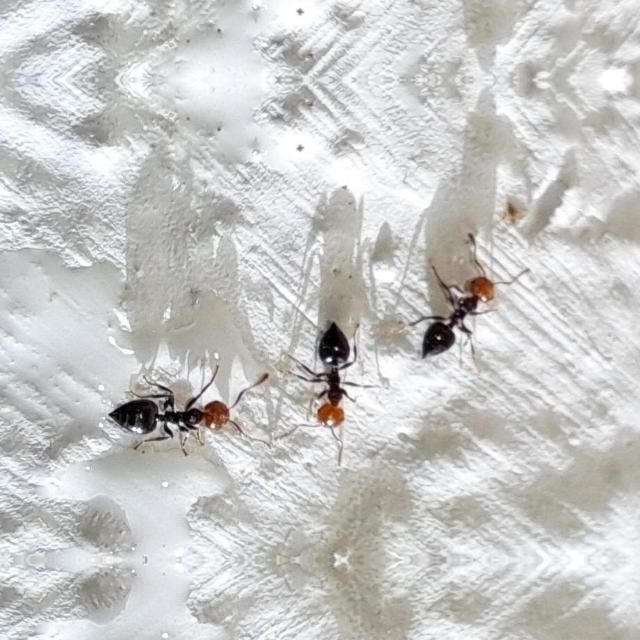Crematogaster: (91, 371, 237, 455), (300, 310, 366, 440), (410, 278, 502, 362)
